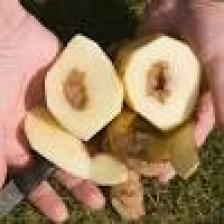Damaged potato: (37, 31, 138, 140), (115, 29, 203, 139)
